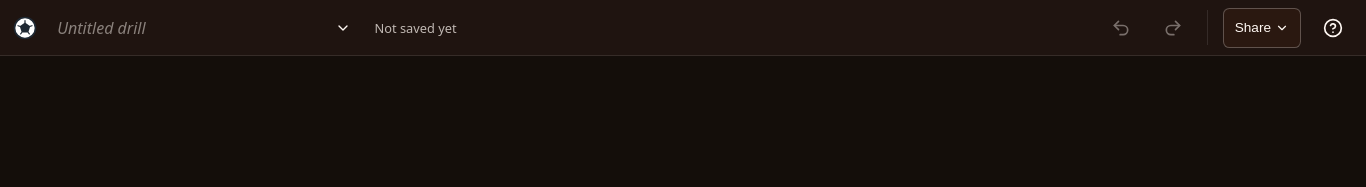
Test case: the Share menu › names the backup after the job, not the file format
The image size is (1366, 187).
Click the button "Share" at (1262, 28), box [1222,8,1301,48]
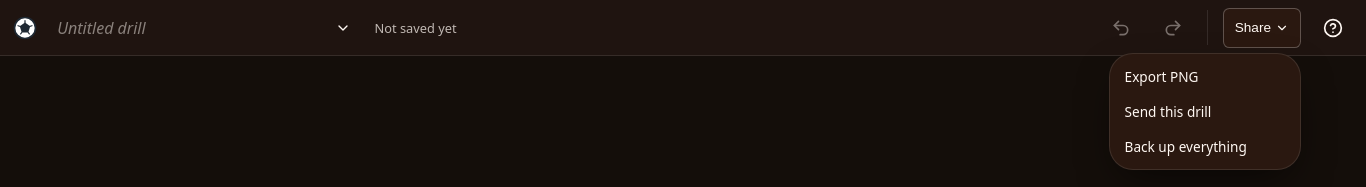
Check: the menu item "Back up everything" is shown, box [1115,129,1295,164]
